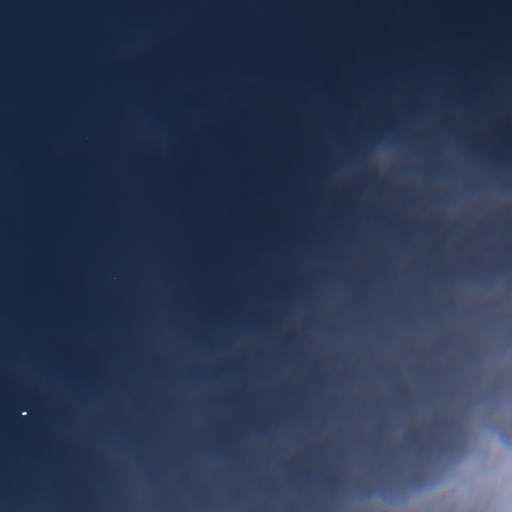Iceberg: (22, 411, 27, 415), (114, 277, 115, 279)
